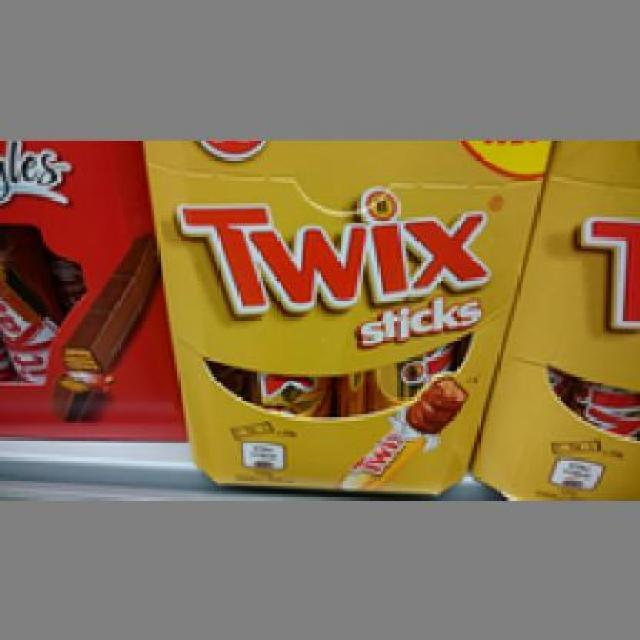Chocolate bar: (140, 140, 549, 489), (2, 134, 184, 443)
